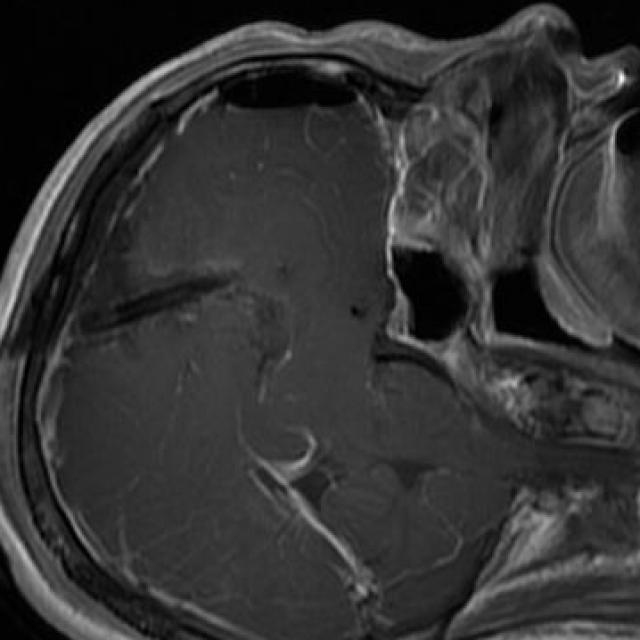glioma: (80, 219, 239, 332)
